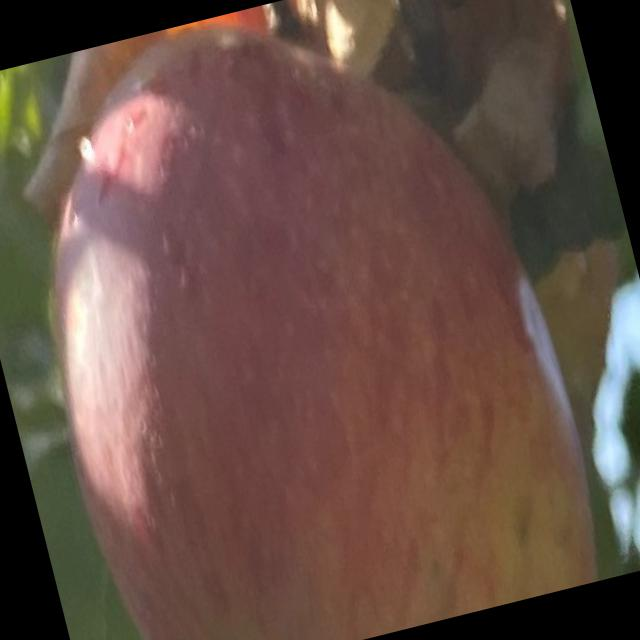Apples: (0, 0, 617, 639)
